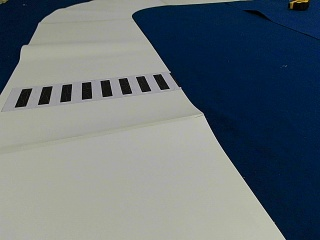crosswalk: (11, 75, 169, 106)
